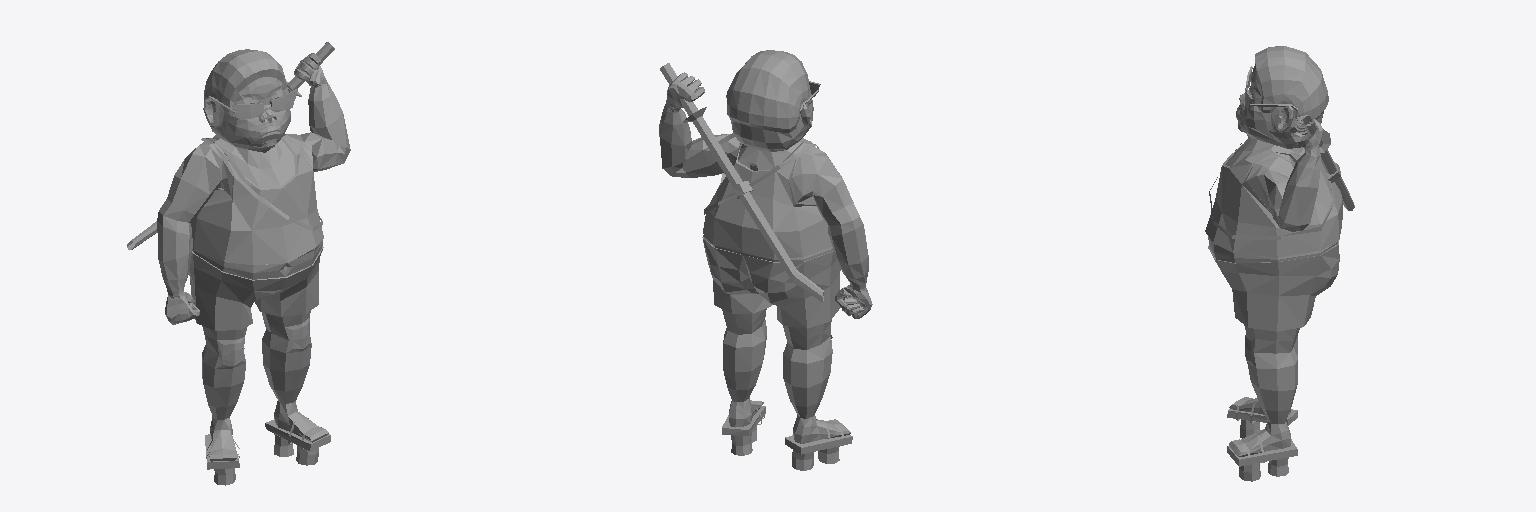
File: junkids_ronin1.obj
3 renders of one model, left to right at view 1: azimuth 30°, elevation 25°; view 2: azimuth 150°, elevation 25°; view 3: azimuth 270°, elevation 25°, orthographic.
Parts seen in each view (by area): view 1: torso.001_Cube.000; view 2: torso.001_Cube.000; view 3: torso.001_Cube.000.
Boxes of the visible parts, box(x1,y1,x2,y2) form: torso.001_Cube.000: box(127, 42, 350, 485); torso.001_Cube.000: box(659, 50, 872, 470); torso.001_Cube.000: box(1205, 46, 1354, 481).
Size of the model in its own units: 4.66 by 9.34 by 3.12.